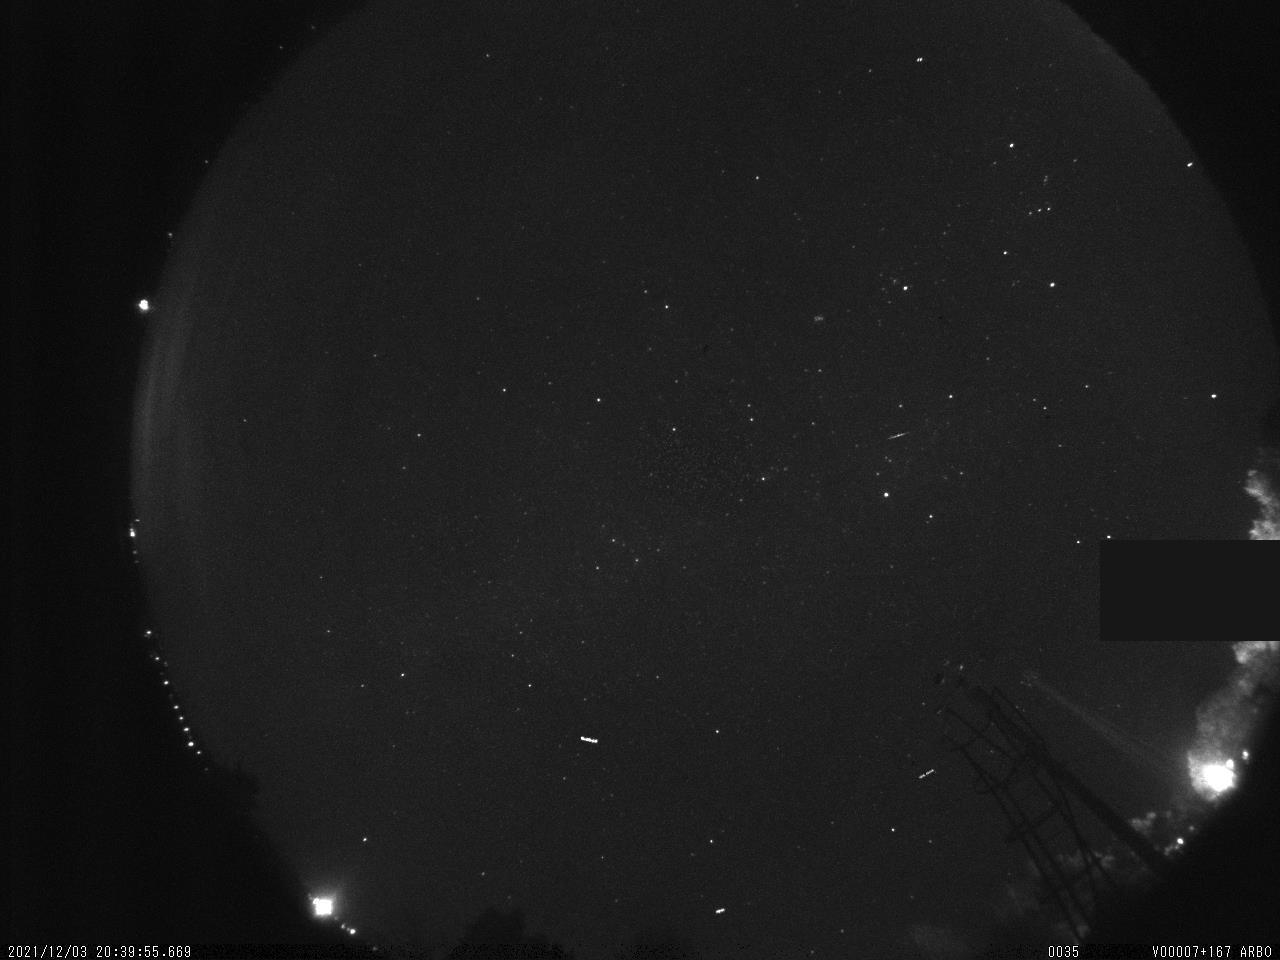Meteor: (884, 427, 914, 442)
